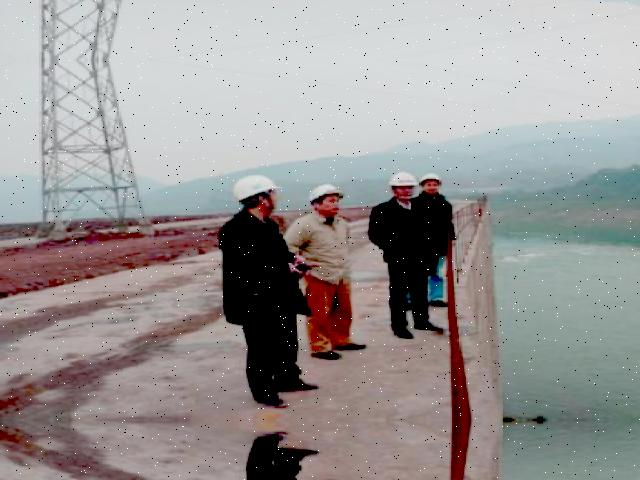Helmet: (232, 170, 288, 207), (307, 179, 349, 207), (386, 168, 422, 191), (422, 170, 447, 188)
